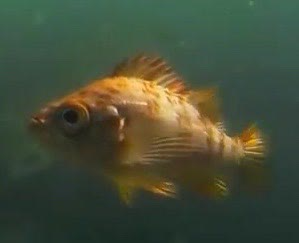mebaru: (16, 55, 278, 204)
